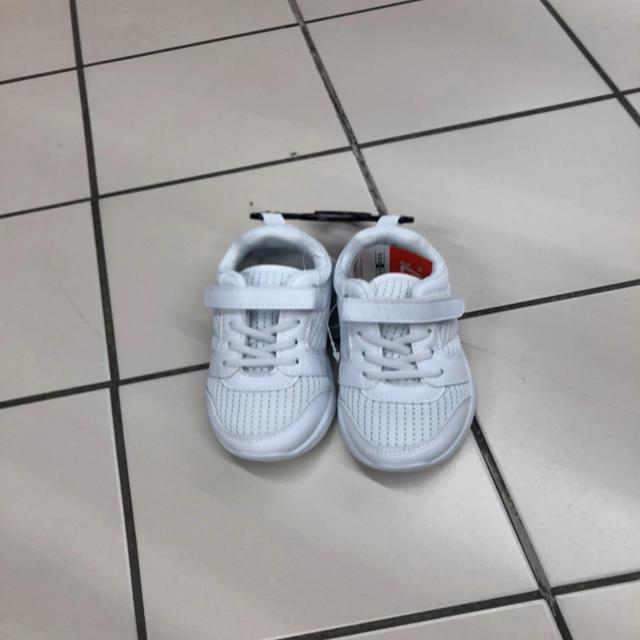shoe: (332, 223, 476, 474), (204, 224, 334, 465)
